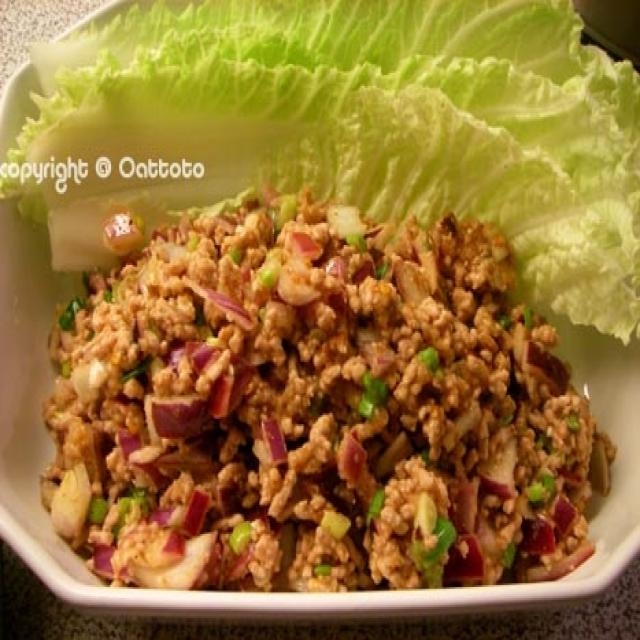鸡肉料理 含炸鸡: (18, 37, 619, 605)
